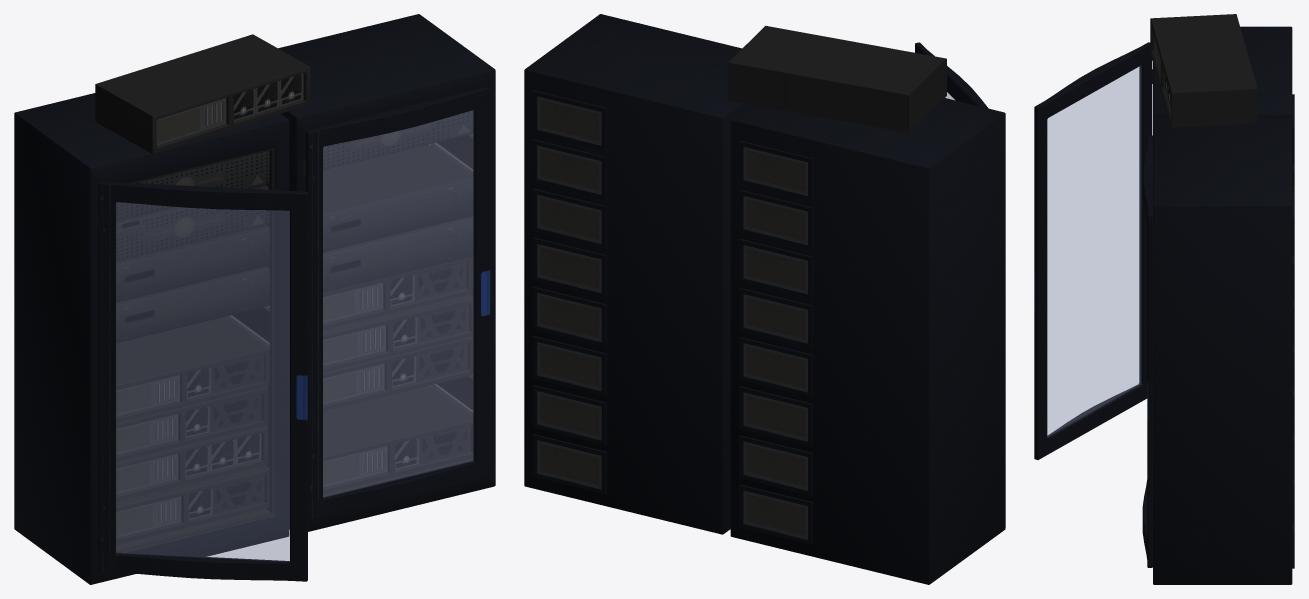
The model's file is cabinet_k.fbx.
3 views of the same model, side by side, from view 1: azimuth 30°, elevation 25°; view 2: azimuth 150°, elevation 25°; view 3: azimuth 270°, elevation 25° (orthographic). The views are drawn at different scales.
Parts seen in each view (by area): view 1: a26b7d19-b0c3-44c0-aee3-aa51df8a0fd8, 6c79d319-471a-4a5d-a4e8-ed5777829e58, bb4166d7-b07d-4b52-949c-649b971cc1ce, abc3f421-e37b-4751-884b-c89f5ec4205c, 58c29059-b17b-4593-98ce-ca0811840c7b, bba04ce8-31ba-41ee-bab8-a10af27179a4, 33a7dcab-f6aa-414f-a1d5-3f1d4557fb72, 643b463d-02a4-462c-982b-6b3b93a7a5cb; view 2: bb4166d7-b07d-4b52-949c-649b971cc1ce, bba04ce8-31ba-41ee-bab8-a10af27179a4, a26b7d19-b0c3-44c0-aee3-aa51df8a0fd8, 33a7dcab-f6aa-414f-a1d5-3f1d4557fb72; view 3: bba04ce8-31ba-41ee-bab8-a10af27179a4, 6c79d319-471a-4a5d-a4e8-ed5777829e58, 33a7dcab-f6aa-414f-a1d5-3f1d4557fb72, a26b7d19-b0c3-44c0-aee3-aa51df8a0fd8, bb4166d7-b07d-4b52-949c-649b971cc1ce, 643b463d-02a4-462c-982b-6b3b93a7a5cb.
Boxes of the visible parts, left/top/right/bottom form: a26b7d19-b0c3-44c0-aee3-aa51df8a0fd8: left=95, top=34, right=310, bottom=544; 6c79d319-471a-4a5d-a4e8-ed5777829e58: left=116, top=202, right=289, bottom=561; bb4166d7-b07d-4b52-949c-649b971cc1ce: left=14, top=93, right=289, bottom=584; abc3f421-e37b-4751-884b-c89f5ec4205c: left=323, top=110, right=473, bottom=497; 58c29059-b17b-4593-98ce-ca0811840c7b: left=323, top=110, right=472, bottom=494; bba04ce8-31ba-41ee-bab8-a10af27179a4: left=278, top=14, right=495, bottom=531; 33a7dcab-f6aa-414f-a1d5-3f1d4557fb72: left=98, top=181, right=307, bottom=581; 643b463d-02a4-462c-982b-6b3b93a7a5cb: left=305, top=86, right=490, bottom=520; bb4166d7-b07d-4b52-949c-649b971cc1ce: left=730, top=98, right=1005, bottom=584; bba04ce8-31ba-41ee-bab8-a10af27179a4: left=524, top=14, right=751, bottom=534; a26b7d19-b0c3-44c0-aee3-aa51df8a0fd8: left=728, top=25, right=946, bottom=132; 33a7dcab-f6aa-414f-a1d5-3f1d4557fb72: left=915, top=42, right=988, bottom=108; bba04ce8-31ba-41ee-bab8-a10af27179a4: left=1153, top=118, right=1294, bottom=584; 6c79d319-471a-4a5d-a4e8-ed5777829e58: left=1047, top=65, right=1141, bottom=436; 33a7dcab-f6aa-414f-a1d5-3f1d4557fb72: left=1034, top=42, right=1152, bottom=459; a26b7d19-b0c3-44c0-aee3-aa51df8a0fd8: left=1150, top=14, right=1257, bottom=127; bb4166d7-b07d-4b52-949c-649b971cc1ce: left=1152, top=26, right=1294, bottom=185; 643b463d-02a4-462c-982b-6b3b93a7a5cb: left=1142, top=135, right=1152, bottom=567.
Bounding box in the file's own units: 93.2 × 100 × 56.98.
2 materials, 1 textured.
